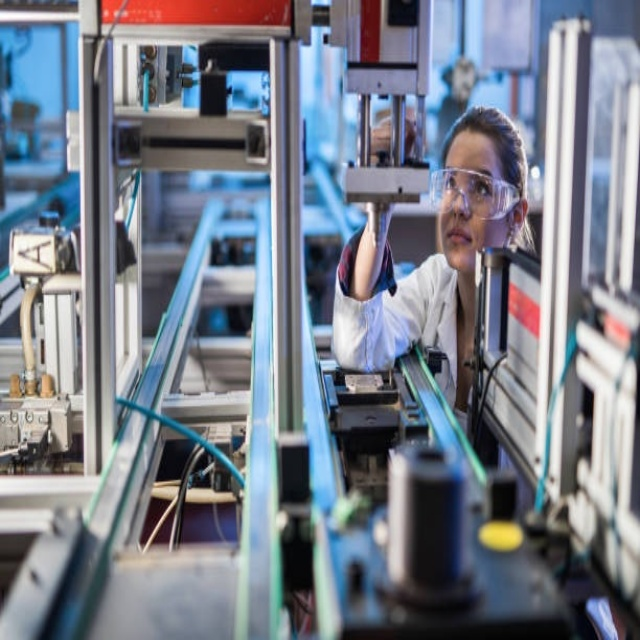Gafas: (429, 168, 522, 220)
Sin_mascara: (442, 221, 472, 265)
